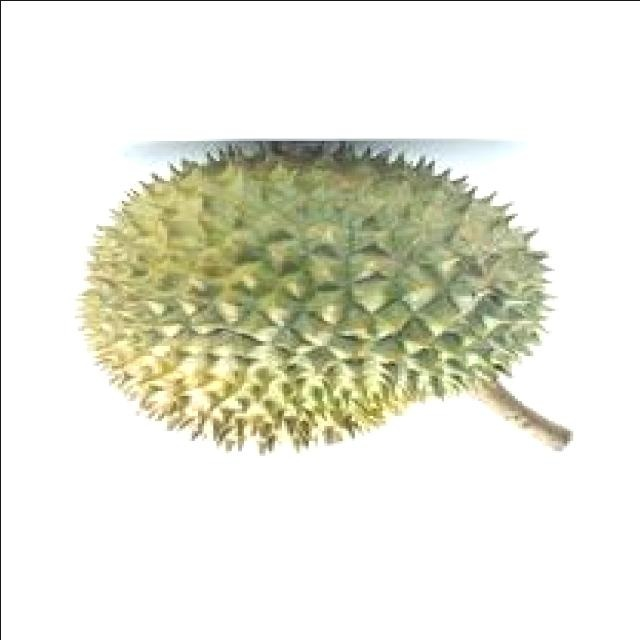agrume: (71, 135, 573, 477)
